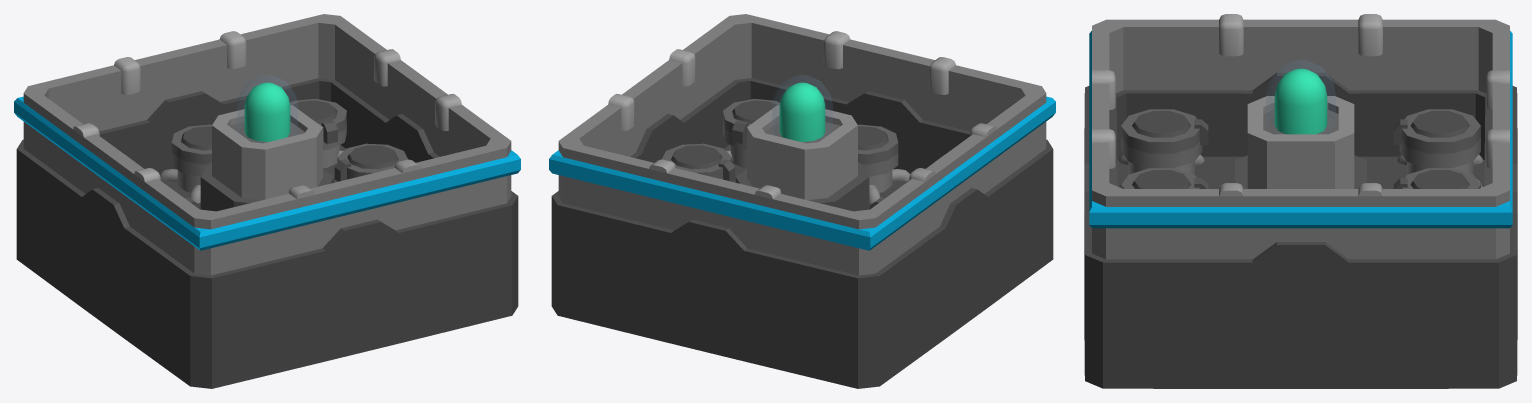
File: Mining_Field_Liquid_Blue.fbx
3 renders of one model, left to right at view 1: azimuth 30°, elevation 25°; view 2: azimuth 150°, elevation 25°; view 3: azimuth 270°, elevation 25°, orthographic. The views are drawn at different scales.
Visible parts, largest first — view 1: Mining_Field_Liquid_Blue; view 2: Mining_Field_Liquid_Blue; view 3: Mining_Field_Liquid_Blue.
Part boxes in pixels (x1,y1,x2,y2): Mining_Field_Liquid_Blue: [14, 14, 520, 388]; Mining_Field_Liquid_Blue: [549, 14, 1055, 388]; Mining_Field_Liquid_Blue: [1084, 14, 1517, 388].
Size of the model in its own units: 622 by 371 by 622.
